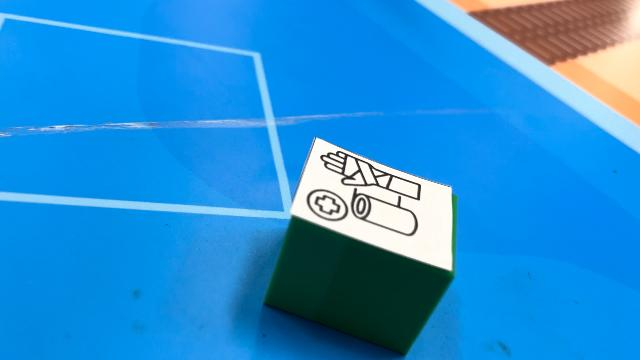bandage: (263, 137, 457, 356)
